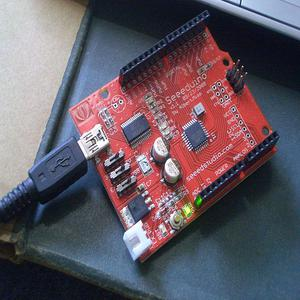duino: (66, 10, 281, 271)
